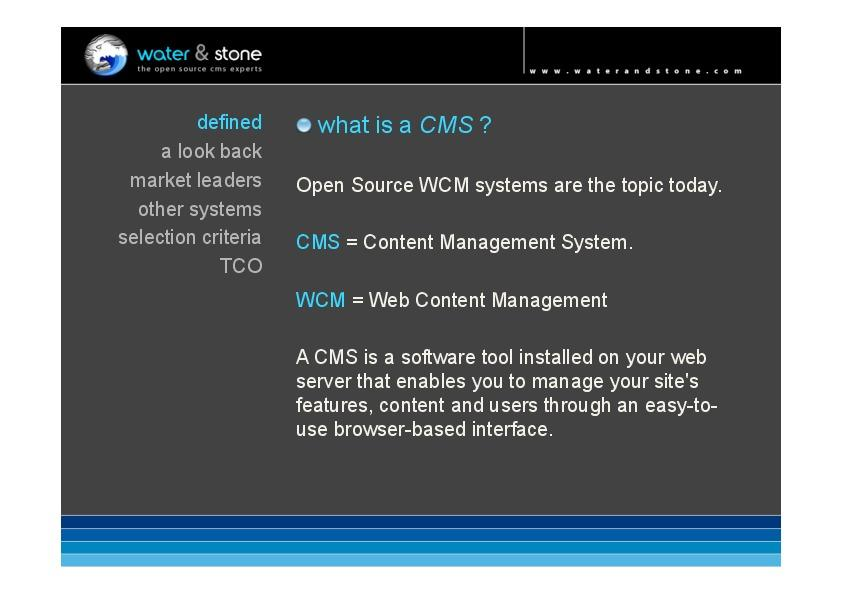paragraph: (291, 160, 743, 494)
subtitle: (99, 107, 273, 297), (289, 106, 513, 147)
title: (131, 37, 280, 77)
